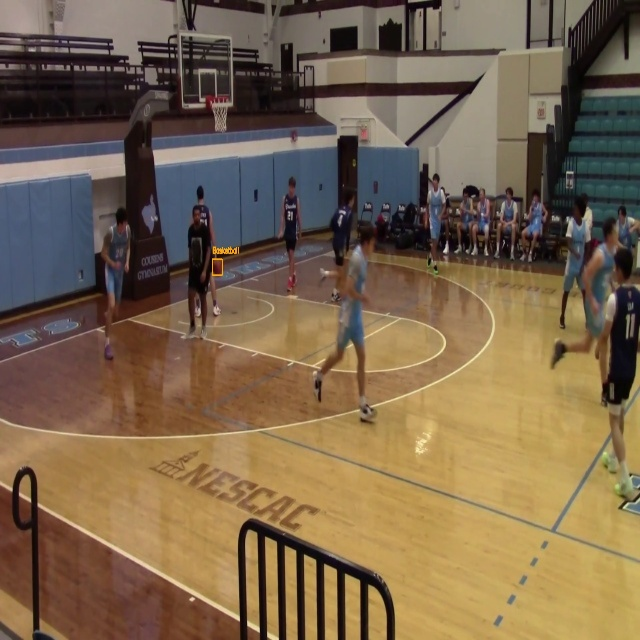Basketball: (213, 259, 222, 275)
